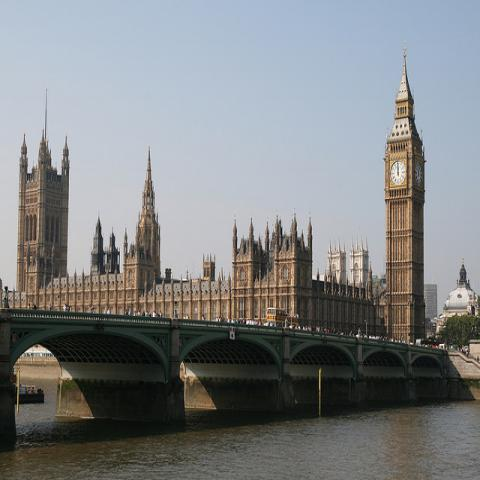bus: (266, 308, 286, 321)
